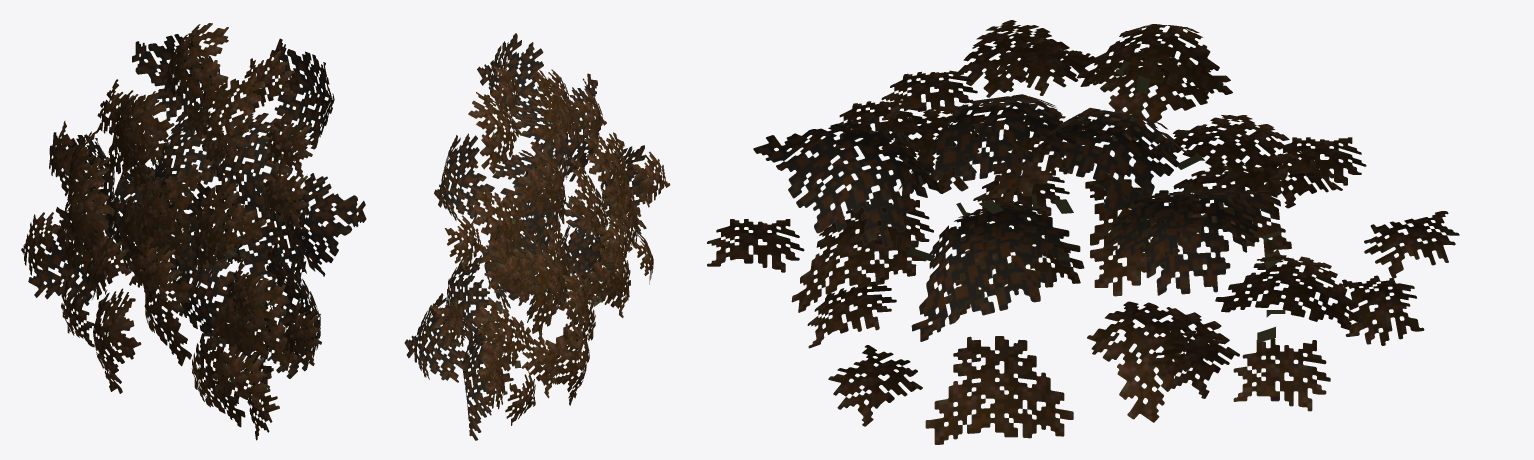
The model's file is EnvFldMD_Tree_G_Mangrove_Leaf_A_Red.FBX.
The picture shows the model from 3 angles, left to right: view 1: azimuth 30°, elevation 25°; view 2: azimuth 150°, elevation 25°; view 3: azimuth 270°, elevation 25°; orthographic projection. The views are drawn at different scales.
Parts seen in each view (by area): view 1: EnvFldMD_Tree_G_Mangrove_Leaf_A_Red; view 2: EnvFldMD_Tree_G_Mangrove_Leaf_A_Red; view 3: EnvFldMD_Tree_G_Mangrove_Leaf_A_Red.
Part boxes in pixels (left/top/right/bottom): EnvFldMD_Tree_G_Mangrove_Leaf_A_Red: left=21, top=23, right=366, bottom=440; EnvFldMD_Tree_G_Mangrove_Leaf_A_Red: left=404, top=33, right=670, bottom=440; EnvFldMD_Tree_G_Mangrove_Leaf_A_Red: left=707, top=20, right=1459, bottom=444.
Size of the model in its own units: 299 by 608 by 882.
Materials: 1 (1 with a texture image).
